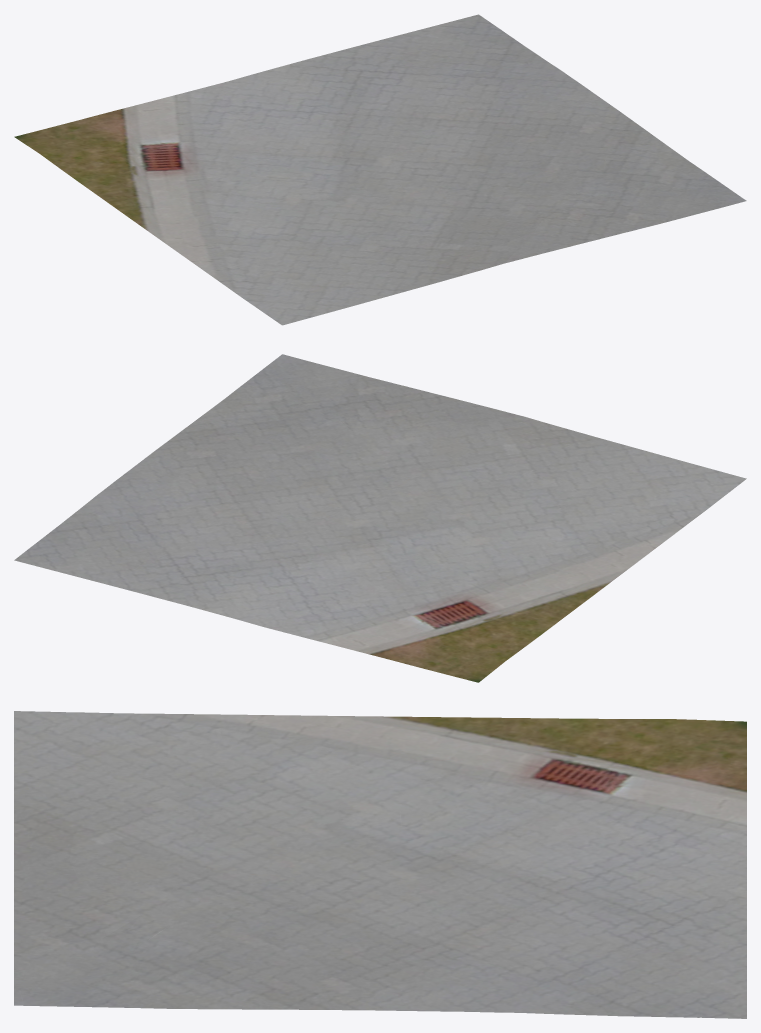
The picture shows the model from 3 angles, top to bottom: view 1: azimuth 30°, elevation 25°; view 2: azimuth 150°, elevation 25°; view 3: azimuth 270°, elevation 25°; orthographic projection. The views are drawn at different scales.
Bounding box in the file's own units: 4.18 × 0.1628 × 4.18.
2 materials, 2 textured.
